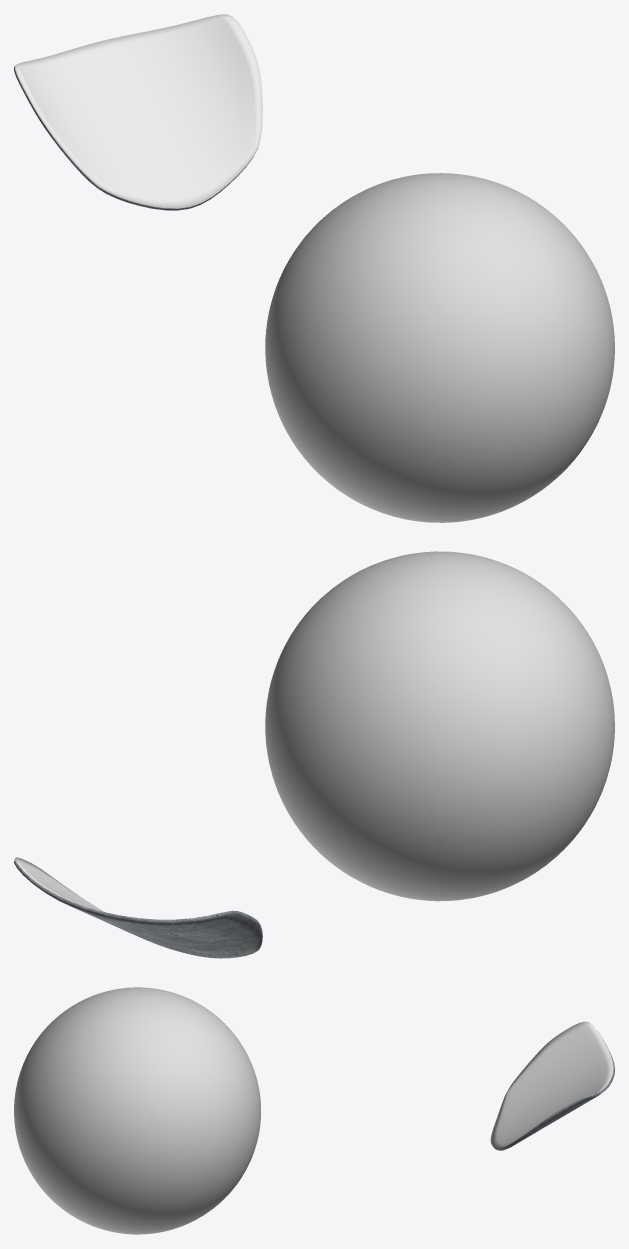
Rendered from Ringworld Distance Skybox-RefCam - PEDALS.fbx.
3 views of the same model, one above another, from view 1: azimuth 30°, elevation 25°; view 2: azimuth 150°, elevation 25°; view 3: azimuth 270°, elevation 25° (orthographic). The views are drawn at different scales.
Visible parts, largest first — view 1: Planet, Plane; view 2: Planet, Plane; view 3: Planet, Plane.
Part boxes in pixels (x1,y1,x2,y2): Planet: (265,173,614,522); Plane: (14,14,262,210); Planet: (265,551,614,901); Plane: (14,857,262,958); Planet: (14,987,260,1234); Plane: (490,1021,614,1150).
Bounding box in the file's own units: 1274 × 1274 × 3098.
